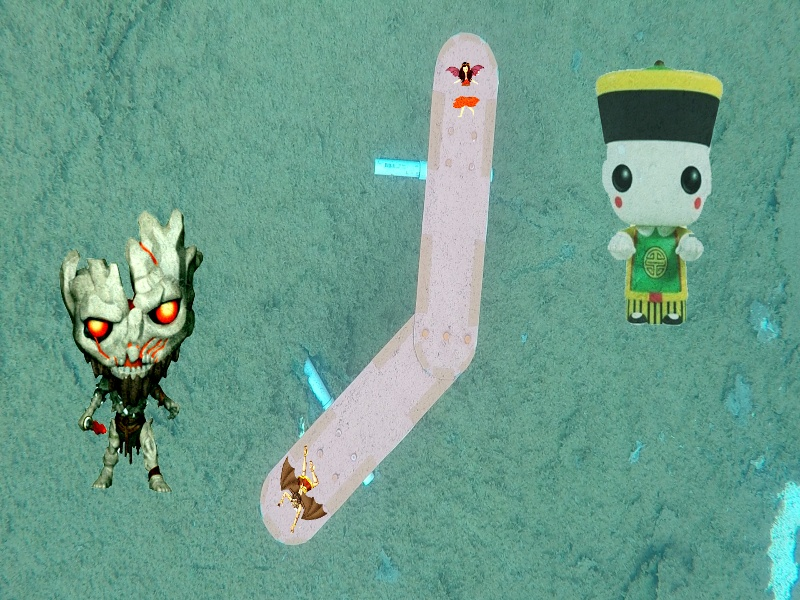Aswang: (442, 60, 486, 116)
Draugr: (57, 207, 207, 495)
Jiangshi: (593, 57, 726, 327)
Vetalas: (273, 442, 339, 536)
